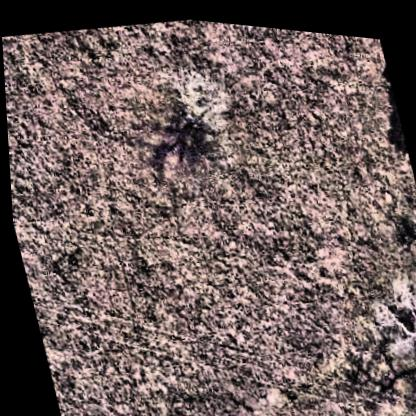tree-top: (350, 255, 416, 395), (142, 60, 235, 156)
